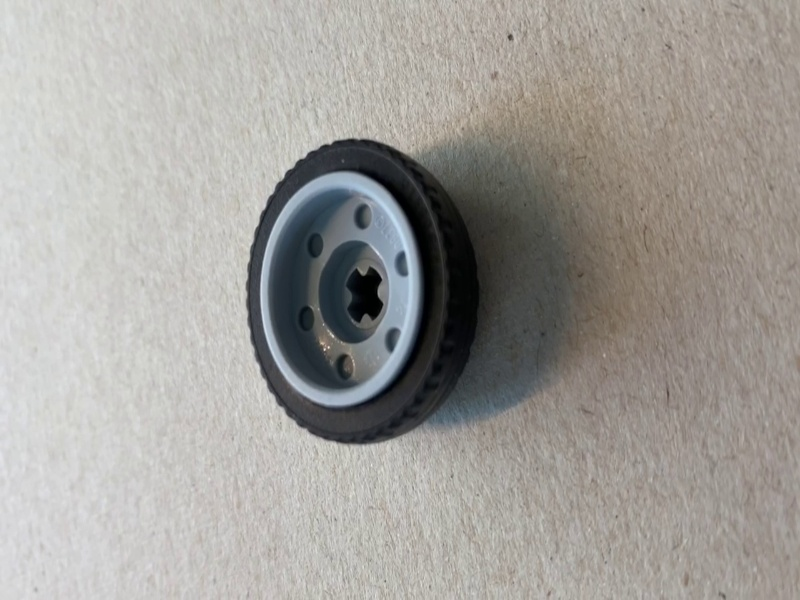tire: (246, 136, 481, 443)
